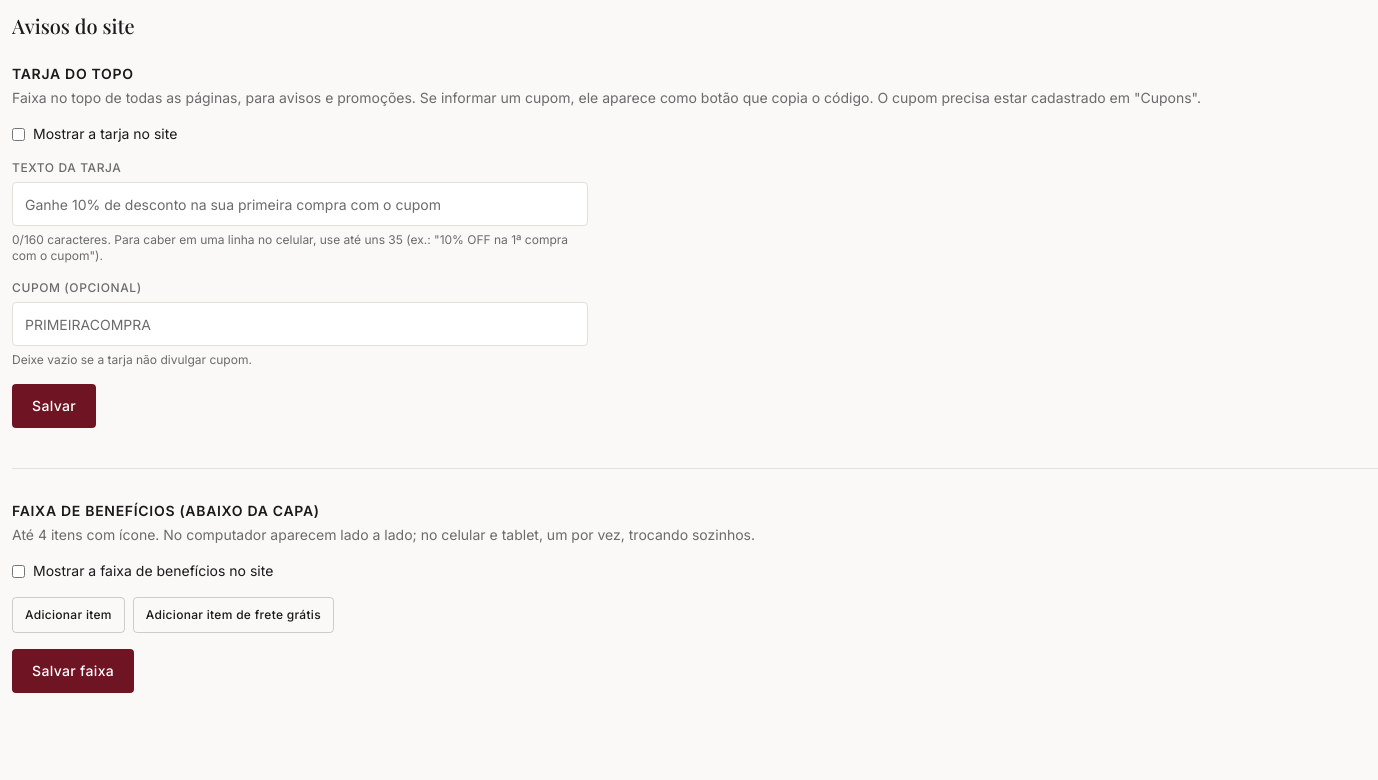
Test: AdminTarja › bloqueia ligar a tarja sem texto
Click the checkbox labelled "Mostrar a tarja no site" at [18, 134], box top-left (12, 128), bottom-right (25, 140)
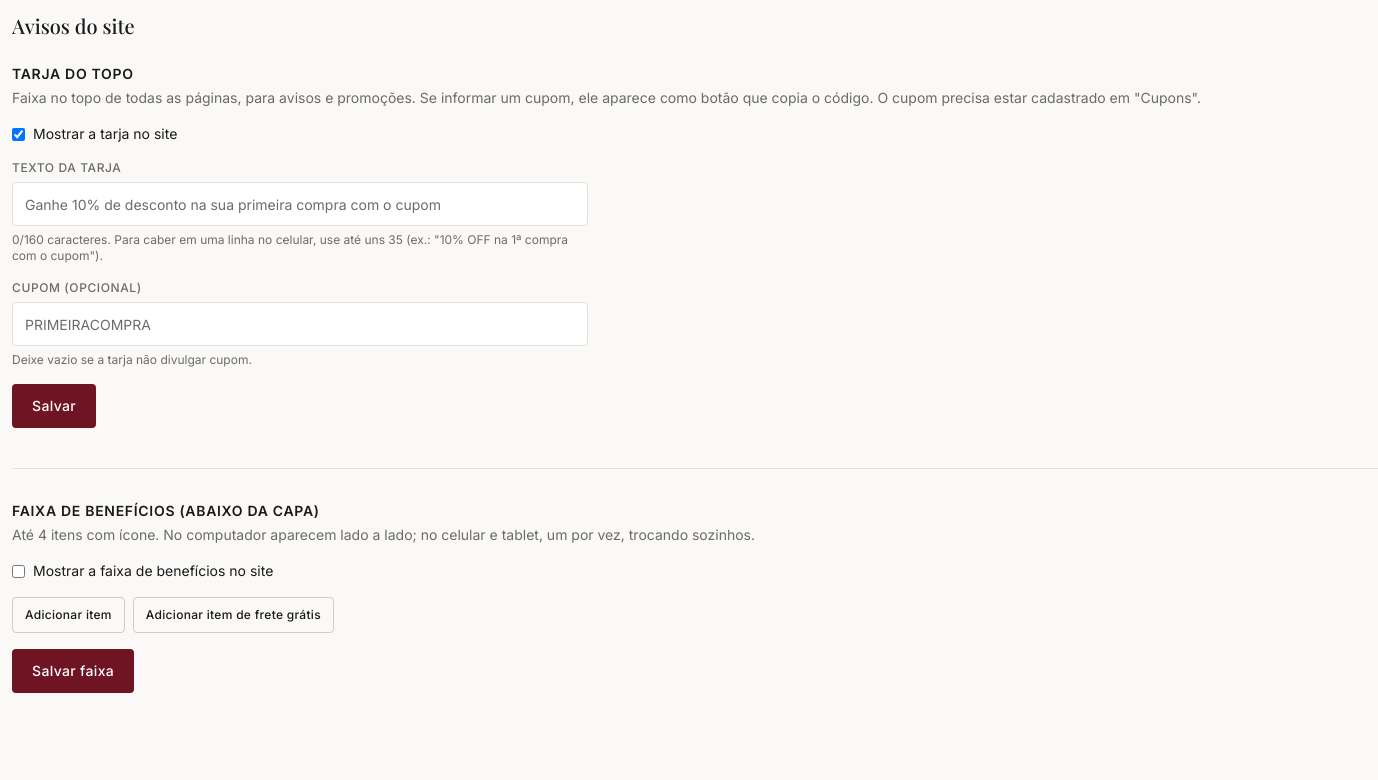
Click the button "Salvar" at [54, 406], box top-left (12, 384), bottom-right (96, 428)
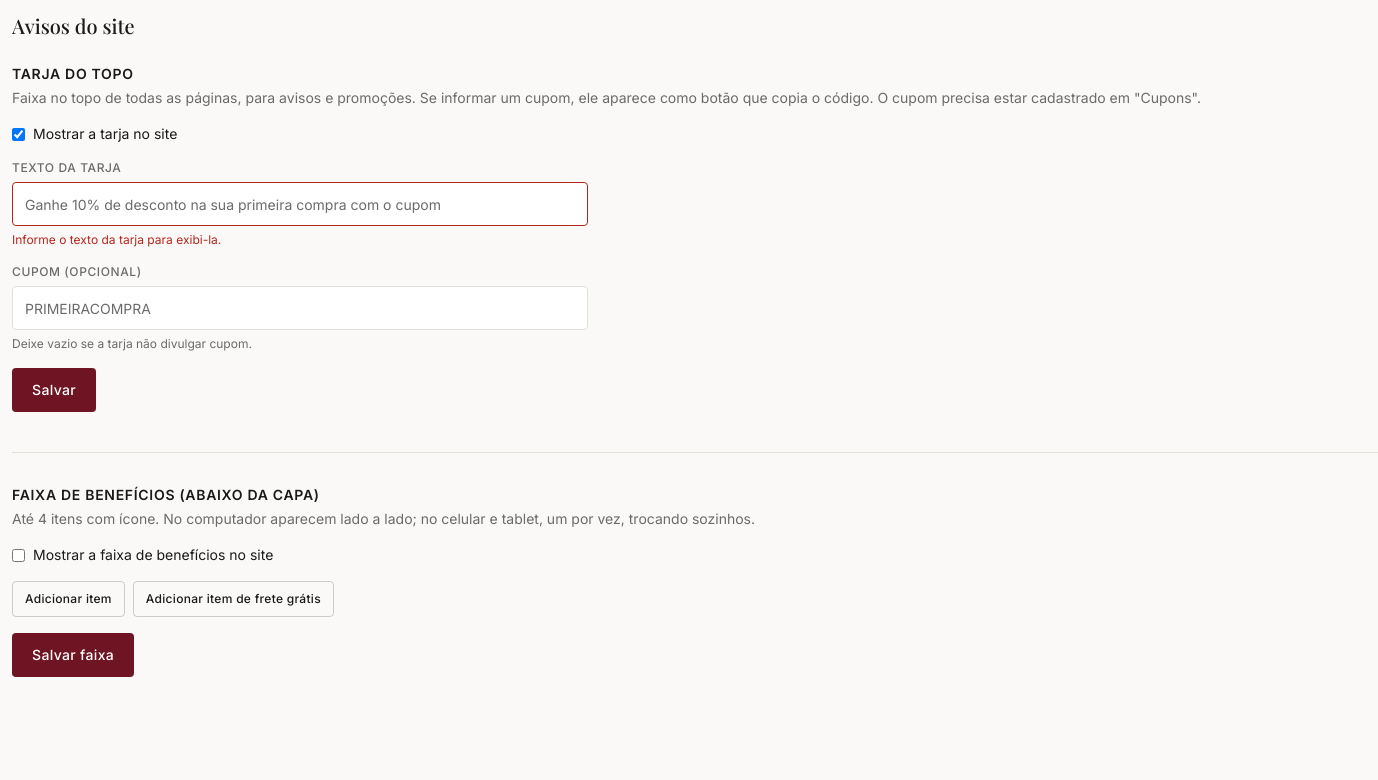
Check: the text "Informe o texto da tarja para exibi-la." is shown, box top-left (12, 232), bottom-right (221, 247)
